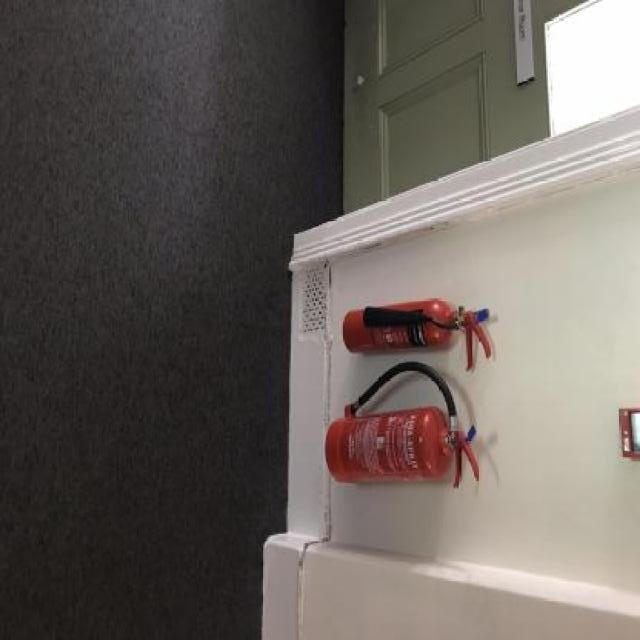fire extinguisher: (326, 361, 482, 490), (343, 297, 492, 371)
